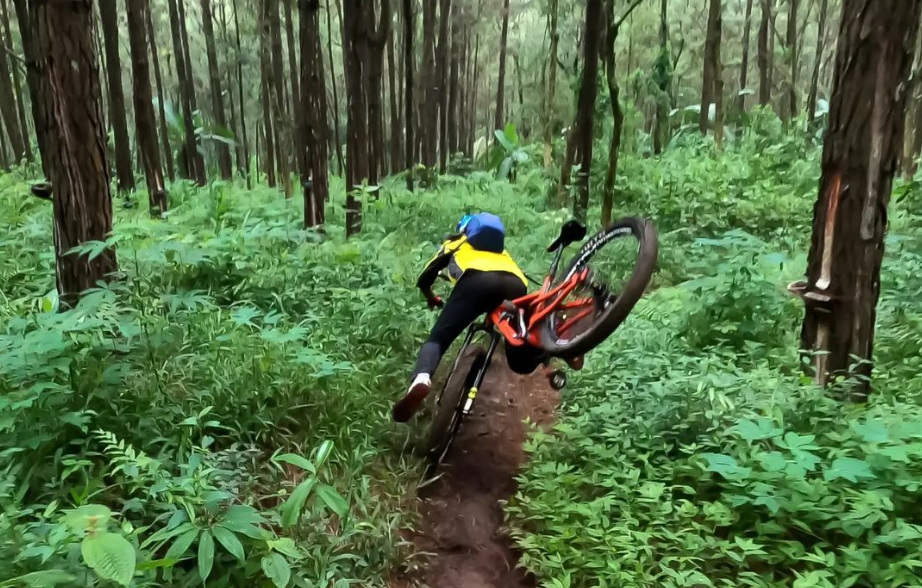fall: (321, 165, 641, 499)
